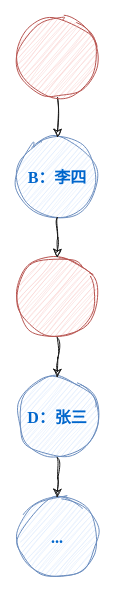
Some shapes in this 115 by 595 pixel diagram are drawn without their labels. The shapes that lost their labels are listed below. From the top down, each one's centre as x and y in pixels, then its label:
At point 57,57: "A：我".
At point 57,297: "C：我".
